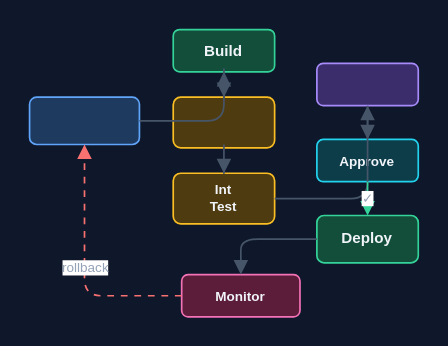
This 448x346 diagram has some shape labels left out. Here are the shapes that lost their labels. From the top down, the centre of each, then its label:
pixel 366 84: Stage
pixel 83 119: Git Push
pixel 223 121: Unit Test
